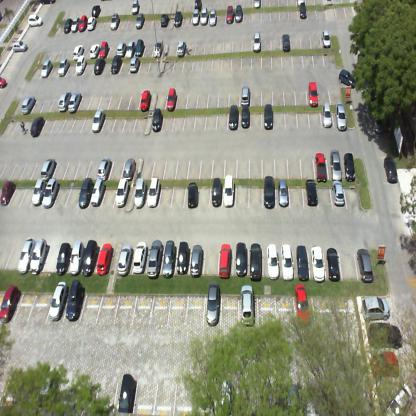car: (368, 322, 403, 349), (61, 289, 86, 326), (384, 382, 412, 415), (1, 278, 20, 324), (46, 290, 69, 326), (370, 351, 400, 378), (29, 236, 49, 276), (118, 372, 137, 414), (361, 293, 390, 319), (354, 240, 374, 277), (36, 375, 57, 410), (18, 234, 36, 274), (145, 240, 165, 275), (324, 242, 342, 280), (202, 293, 221, 329), (294, 282, 310, 324), (68, 240, 87, 274), (241, 283, 255, 327), (76, 176, 94, 210), (144, 177, 162, 211), (293, 243, 311, 277), (53, 241, 72, 273), (82, 240, 100, 273), (88, 174, 105, 208), (278, 244, 295, 278), (310, 242, 326, 278), (160, 241, 177, 274), (174, 243, 191, 276), (42, 176, 59, 209), (188, 242, 204, 276), (263, 243, 279, 277), (234, 241, 249, 277), (113, 177, 129, 210), (132, 240, 148, 273), (217, 242, 233, 275), (0, 174, 16, 206), (96, 244, 113, 274), (248, 240, 263, 274), (314, 148, 330, 178), (118, 242, 134, 272), (220, 379, 233, 415), (133, 177, 146, 212), (341, 149, 357, 177), (285, 381, 298, 415), (330, 179, 345, 208), (262, 178, 276, 208), (276, 179, 290, 209), (383, 154, 397, 184), (90, 106, 106, 132), (96, 154, 112, 180), (338, 66, 356, 89), (328, 148, 342, 177), (209, 180, 223, 209), (31, 179, 46, 206), (304, 178, 317, 209), (122, 155, 138, 180), (332, 101, 347, 127), (184, 179, 196, 210), (150, 106, 163, 133), (41, 154, 55, 179), (224, 179, 236, 208), (67, 90, 82, 113), (56, 91, 71, 114), (20, 93, 35, 116), (30, 115, 45, 138), (308, 80, 319, 108), (238, 105, 250, 130), (140, 88, 152, 112), (321, 104, 334, 126), (166, 86, 177, 112), (40, 58, 53, 80), (57, 56, 70, 78), (262, 105, 274, 128), (109, 54, 122, 75), (239, 84, 251, 106), (228, 106, 239, 128), (75, 55, 86, 77), (97, 40, 110, 58), (92, 58, 105, 76), (320, 28, 331, 49), (77, 12, 88, 33), (175, 40, 187, 58), (88, 42, 100, 60), (128, 56, 140, 74), (252, 31, 262, 52), (28, 13, 43, 27), (124, 39, 134, 60), (110, 11, 120, 32), (12, 39, 29, 51), (282, 31, 291, 53), (73, 43, 84, 61), (173, 10, 182, 32), (134, 13, 145, 31), (63, 16, 74, 34), (153, 40, 162, 61), (235, 1, 243, 24), (226, 4, 235, 24), (70, 14, 80, 32), (209, 7, 217, 29), (134, 39, 144, 56), (158, 12, 168, 29), (86, 15, 96, 31), (299, 2, 307, 21), (116, 40, 126, 55), (200, 8, 208, 26), (91, 4, 101, 18), (131, 0, 140, 15), (192, 9, 199, 27), (0, 75, 8, 90), (194, 0, 202, 12), (253, 0, 262, 10)
